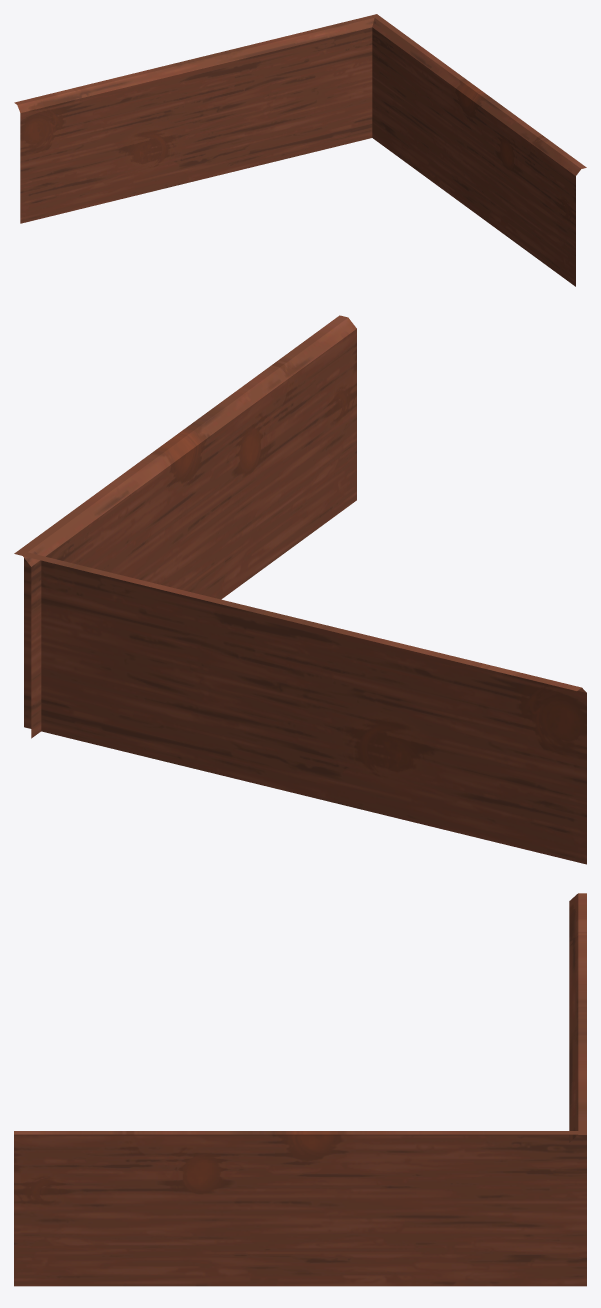
File: En_W_Woodtrim_corner.fbx
3 renders of one model, top to bottom at view 1: azimuth 30°, elevation 25°; view 2: azimuth 150°, elevation 25°; view 3: azimuth 270°, elevation 25°, orthographic. The views are drawn at different scales.
Parts seen in each view (by area): view 1: En_W_Woodtrim_corner; view 2: En_W_Woodtrim_corner; view 3: En_W_Woodtrim_corner.
Part boxes in pixels (left/top/right/bottom): En_W_Woodtrim_corner: left=14, top=14, right=586, bottom=286; En_W_Woodtrim_corner: left=14, top=315, right=586, bottom=864; En_W_Woodtrim_corner: left=14, top=893, right=586, bottom=1286.
Bounding box in the file's own units: 200 × 61.34 × 200.
